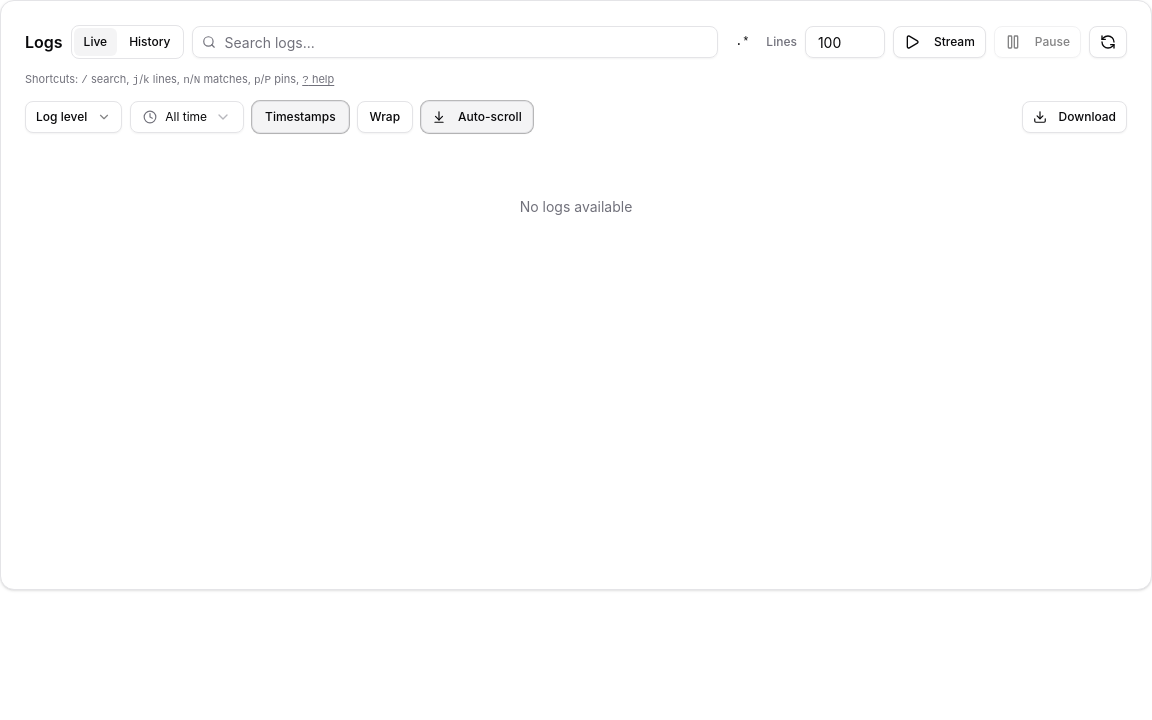
Test case: LogViewer history mode › explains an empty store through the empty state
Expected: the button "Live" is shown, [74,28,117,56]
Click the button "History".
click(150, 42)  # box [119,28,180,56]
Wait 1 ms
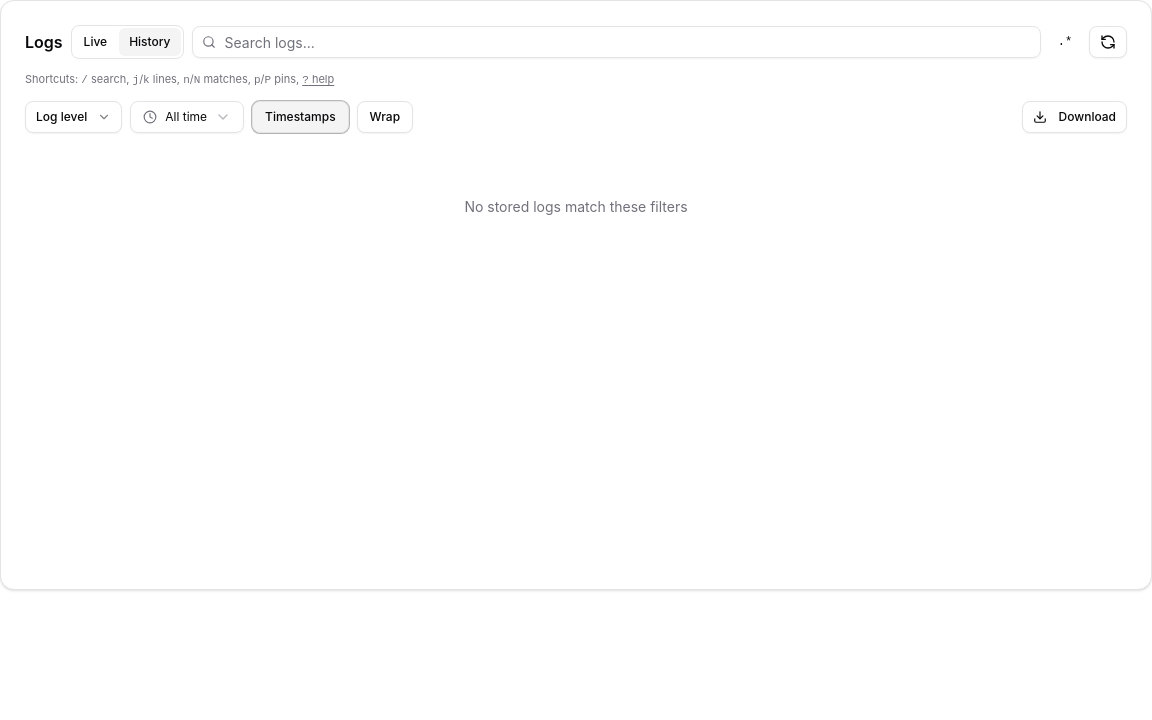
Now the text "No stored logs match these filters" is shown, box [464,198,688,214]
